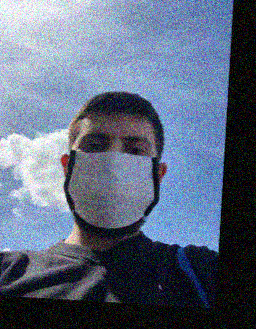with_mask: (63, 128, 159, 238)
